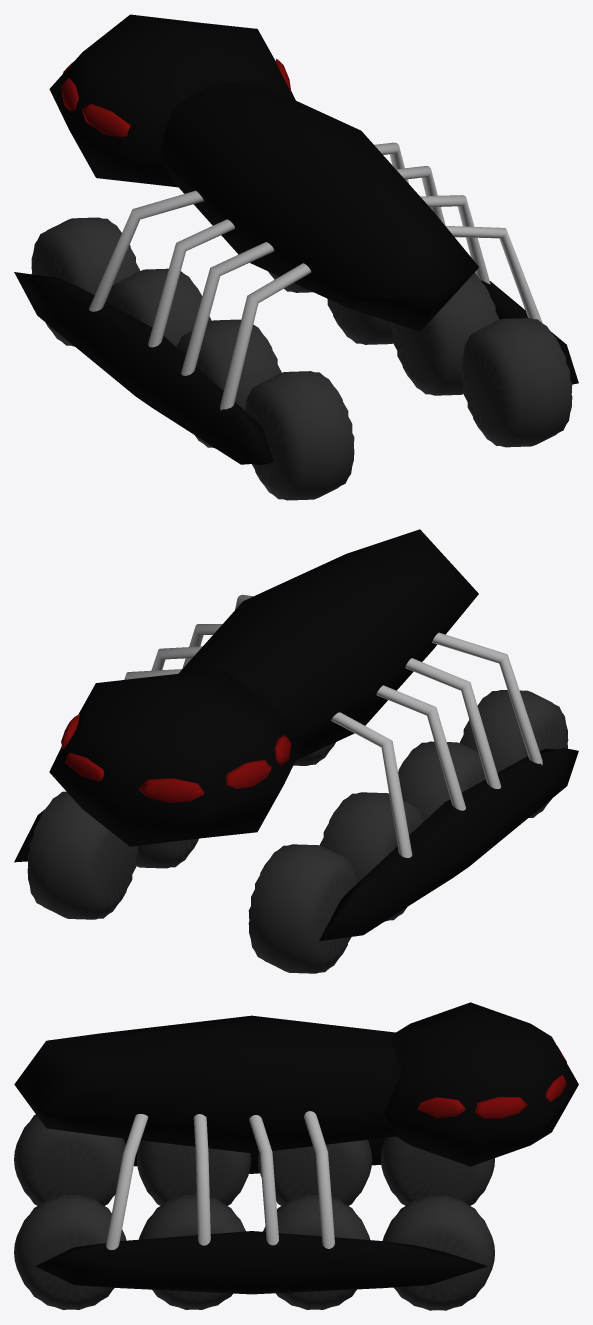
The model's file is SpiderWheelBot.fbx.
3 renders of one model, top to bottom at view 1: azimuth 30°, elevation 25°; view 2: azimuth 150°, elevation 25°; view 3: azimuth 270°, elevation 25°, orthographic. The views are drawn at different scales.
Visible parts, largest first — view 1: polySurface17, polySurface16, polySurface6, polySurface15, polySurface4, polySurface1, polySurface14, polySurface19, pCylinder2, pCylinder4, pCylinder9, pCylinder3 (+6 smaller); view 2: polySurface17, polySurface16, polySurface1, polySurface2, polySurface19, polySurface15, polySurface14, pCylinder4, pCylinder2, pCylinder9, pCylinder3, polySurface3 (+4 smaller); view 3: polySurface17, polySurface18, polySurface2, polySurface6, polySurface15, polySurface14, polySurface1, polySurface19, polySurface4, polySurface3, polySurface20, polySurface22 (+5 smaller).
Boxes of the visible parts, left/top/right/bottom form: polySurface17: left=49, top=14, right=478, bottom=331; polySurface16: left=14, top=272, right=273, bottom=465; polySurface6: left=461, top=318, right=572, bottom=447; polySurface15: left=244, top=371, right=354, bottom=500; polySurface4: left=391, top=273, right=499, bottom=395; polySurface1: left=31, top=217, right=139, bottom=346; polySurface14: left=176, top=319, right=281, bottom=448; polySurface19: left=106, top=268, right=211, bottom=346; pCylinder2: left=220, top=263, right=311, bottom=410; pCylinder4: left=89, top=190, right=204, bottom=311; pCylinder9: left=181, top=242, right=274, bottom=375; pCylinder3: left=148, top=219, right=234, bottom=347; polySurface17: left=49, top=529, right=478, bottom=846; polySurface16: left=319, top=748, right=578, bottom=941; polySurface1: left=248, top=844, right=358, bottom=973; polySurface2: left=27, top=791, right=138, bottom=919; polySurface19: left=319, top=792, right=425, bottom=921; polySurface15: left=459, top=690, right=568, bottom=817; polySurface14: left=398, top=741, right=485, bottom=819; pCylinder4: left=331, top=712, right=412, bottom=857; pCylinder2: left=432, top=632, right=542, bottom=764; pCylinder9: left=405, top=658, right=501, bottom=788; pCylinder3: left=376, top=685, right=465, bottom=810; polySurface3: left=136, top=838, right=198, bottom=868; polySurface17: left=14, top=1002, right=578, bottom=1166; polySurface18: left=35, top=1231, right=488, bottom=1294; polySurface2: left=382, top=1195, right=494, bottom=1310; polySurface6: left=14, top=1194, right=126, bottom=1309; polySurface15: left=14, top=1114, right=125, bottom=1205; polySurface14: left=137, top=1140, right=251, bottom=1205; polySurface1: left=381, top=1136, right=494, bottom=1205; polySurface19: left=258, top=1140, right=372, bottom=1205; polySurface4: left=139, top=1194, right=245, bottom=1309; polySurface3: left=263, top=1194, right=370, bottom=1309; polySurface20: left=106, top=1114, right=148, bottom=1250; polySurface22: left=304, top=1111, right=334, bottom=1248.
Size of the model in its own units: 28.07 by 20.6 by 44.67.
